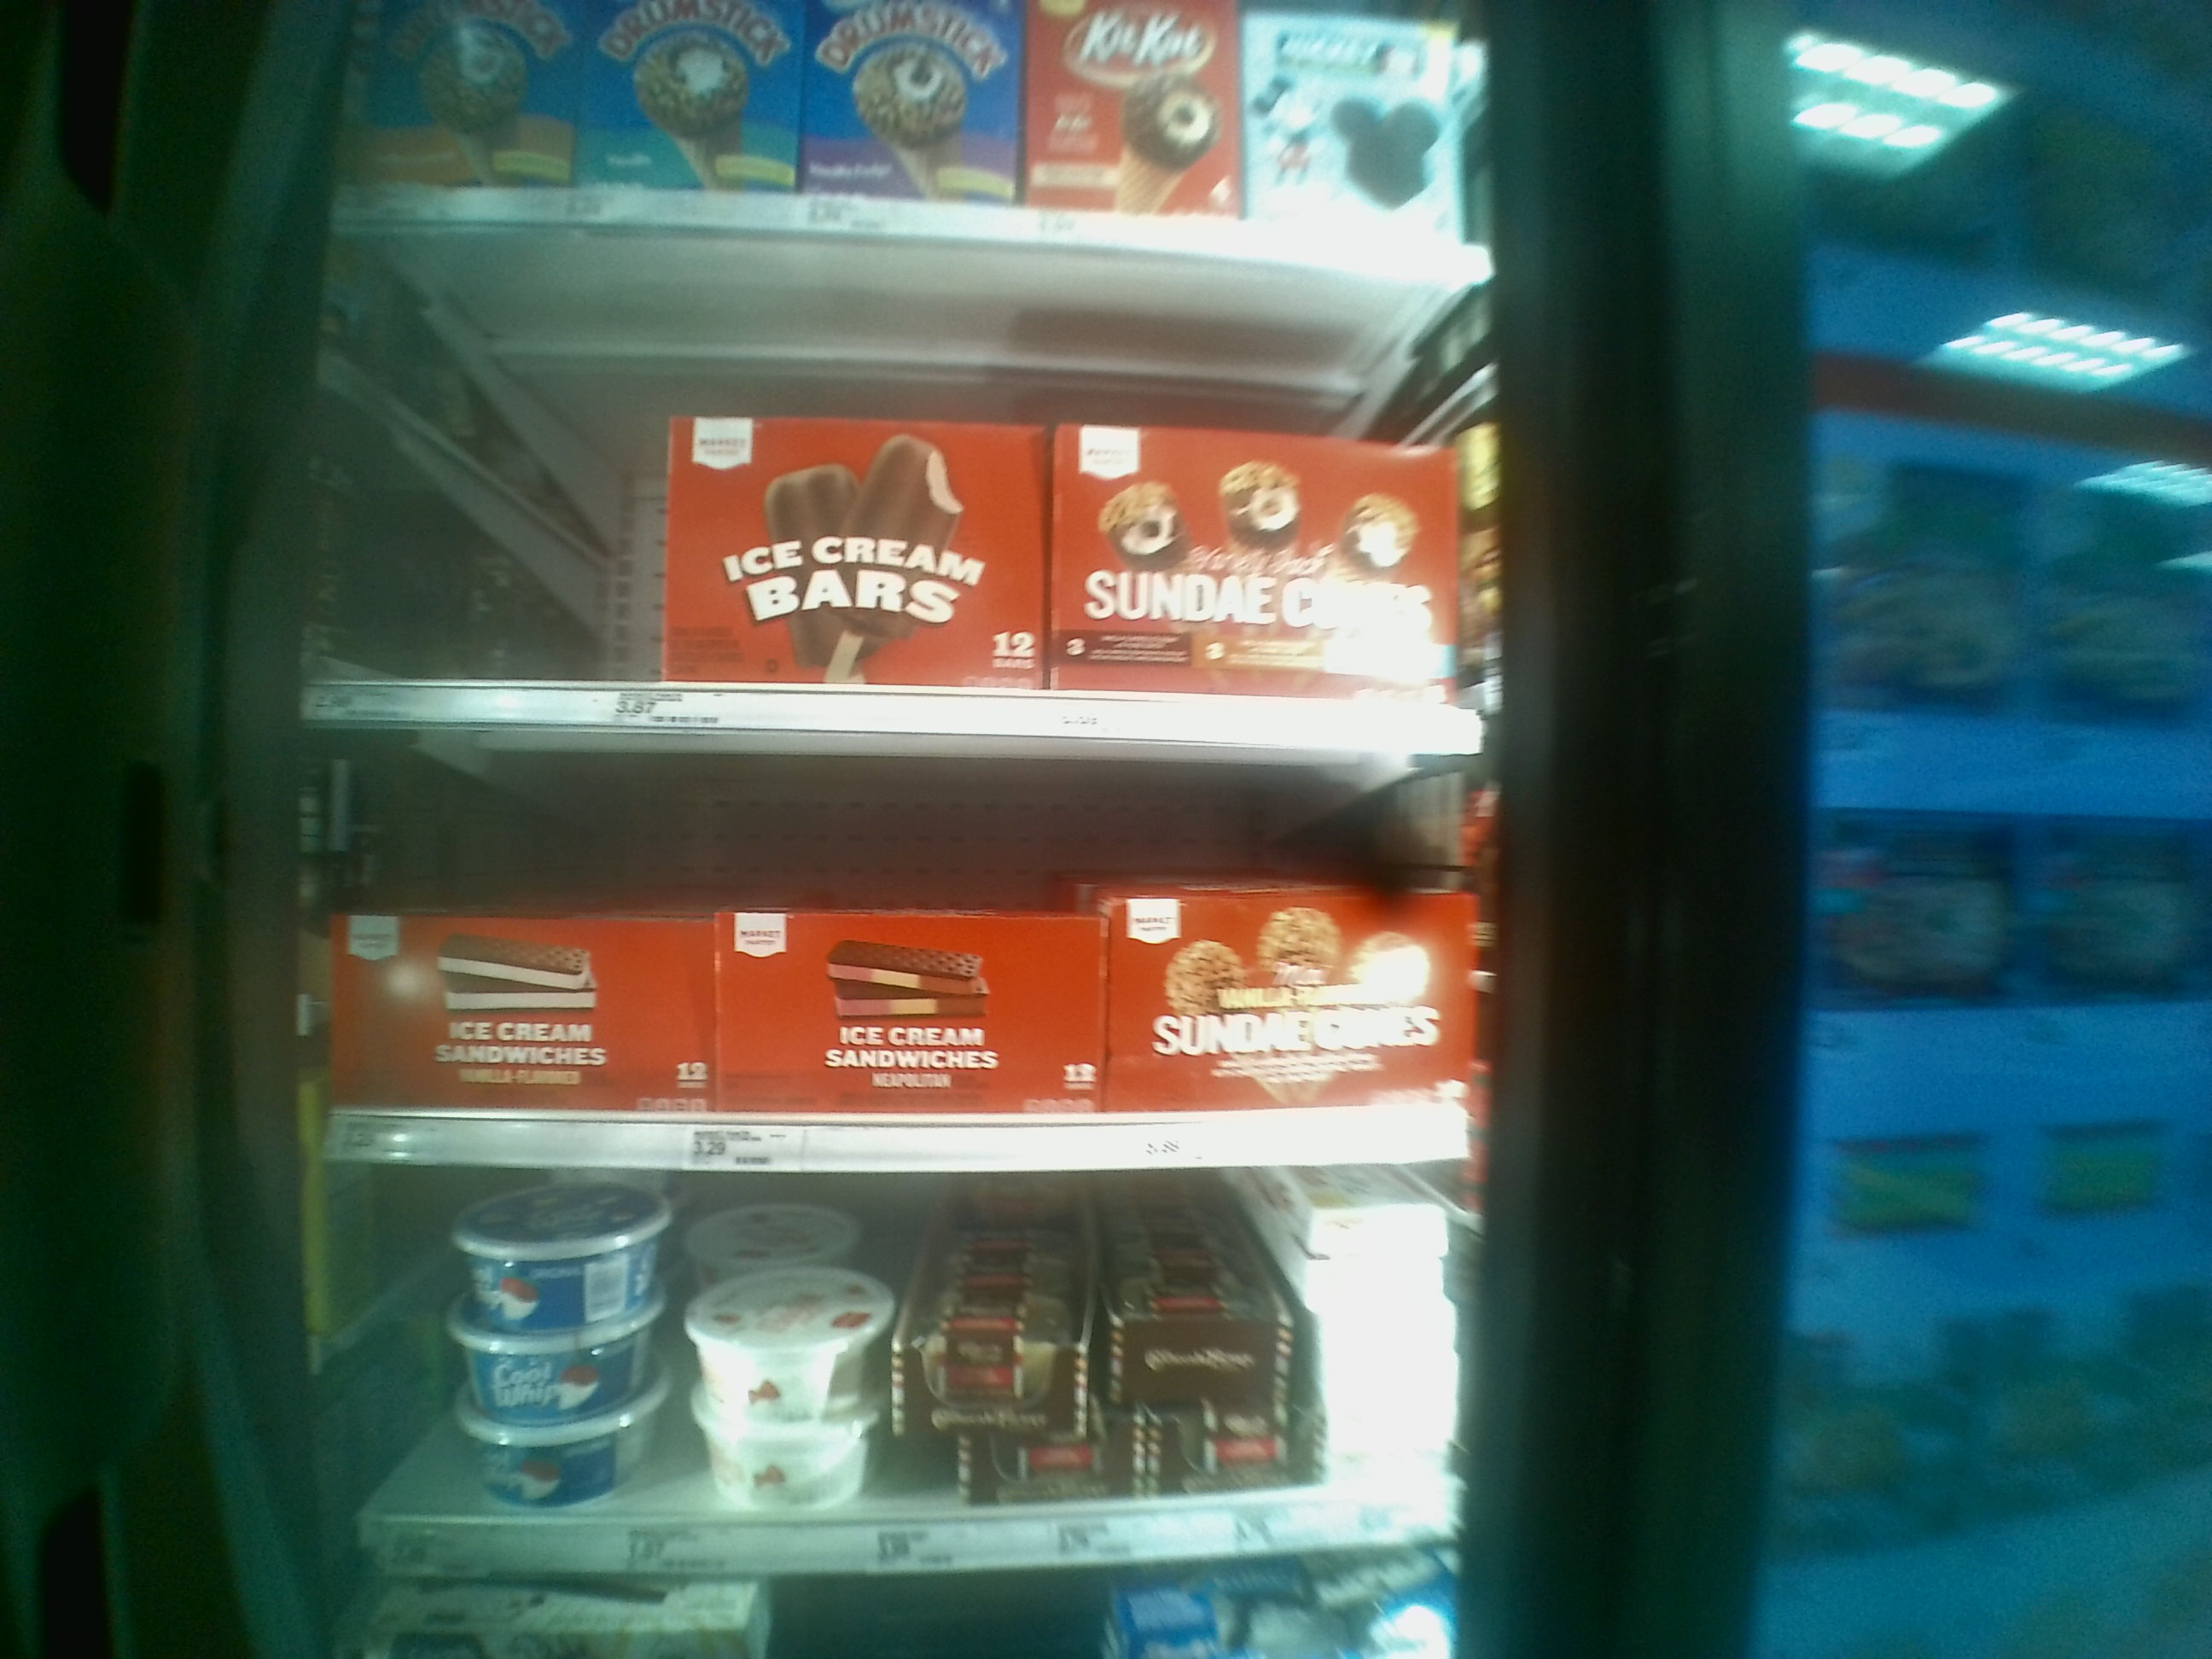shelf: (326, 216, 1498, 734), (307, 702, 1489, 1154), (334, 1168, 1444, 1581)
